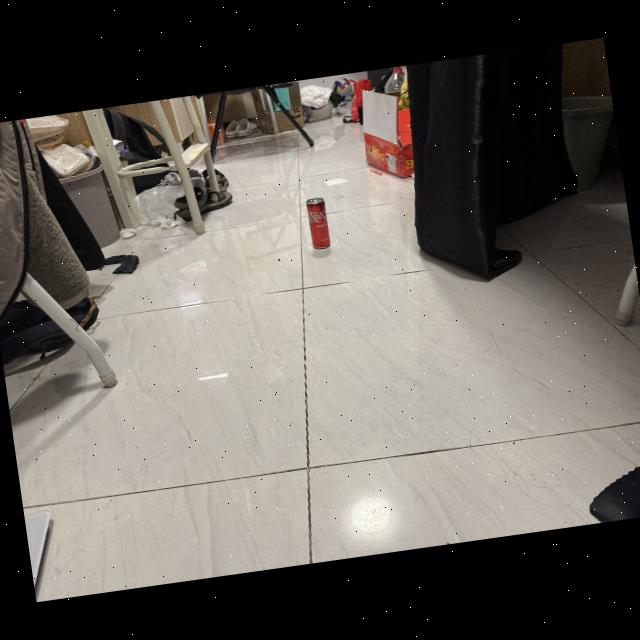Cola: (300, 194, 334, 254)
